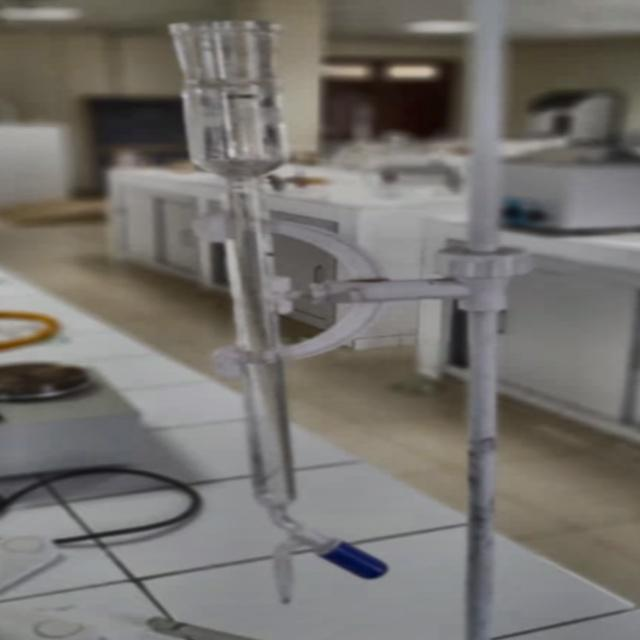Column Chromatography: (144, 13, 386, 636)
